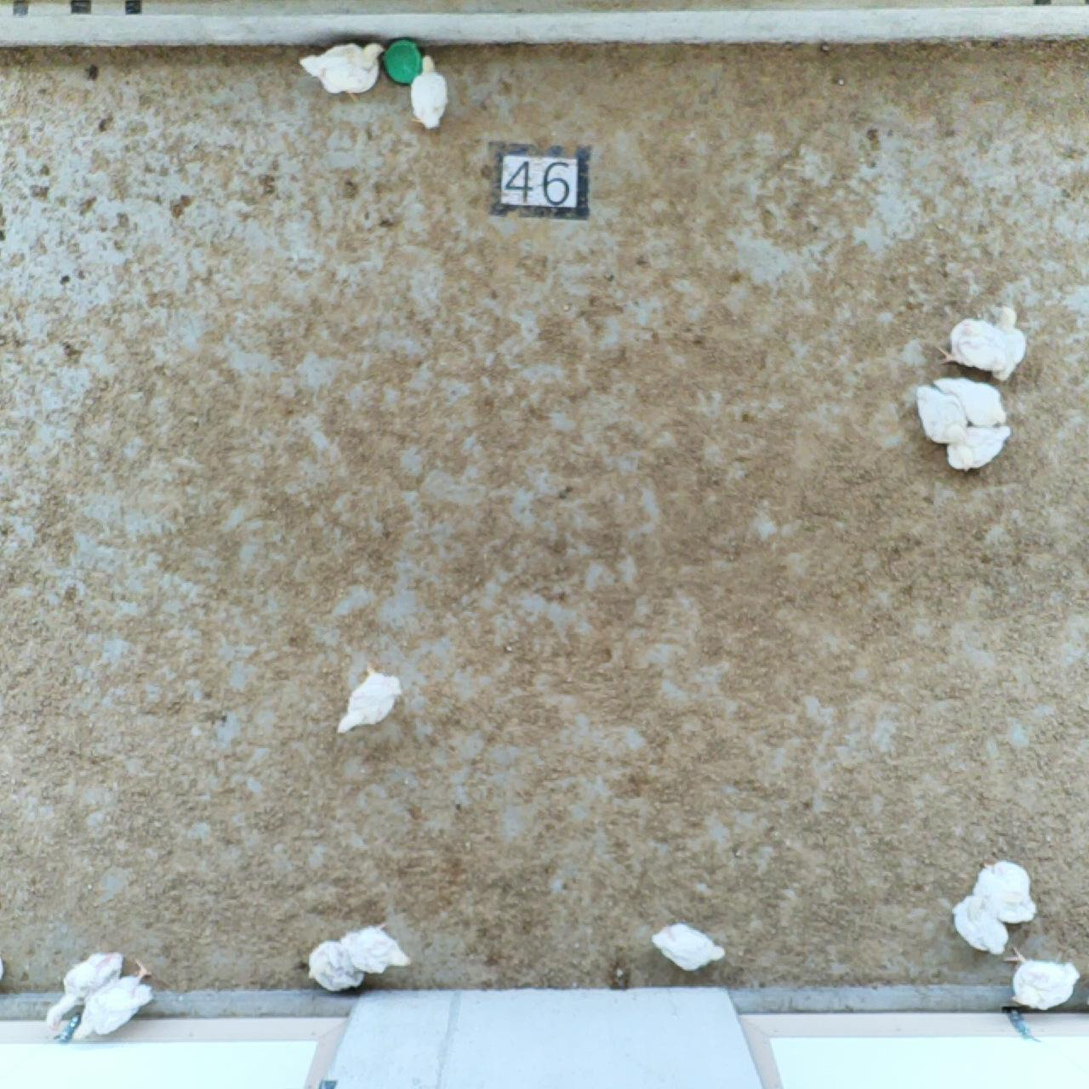chicken: (69, 956, 157, 1043), (41, 948, 128, 1035), (292, 37, 388, 111), (333, 653, 410, 742), (968, 853, 1046, 930), (943, 885, 1017, 959), (1008, 944, 1084, 1014), (338, 918, 416, 977), (930, 372, 1011, 428), (405, 50, 453, 143), (933, 312, 1005, 373), (651, 917, 729, 973), (912, 384, 972, 450), (304, 935, 370, 995), (941, 423, 1012, 476), (986, 301, 1030, 383)
